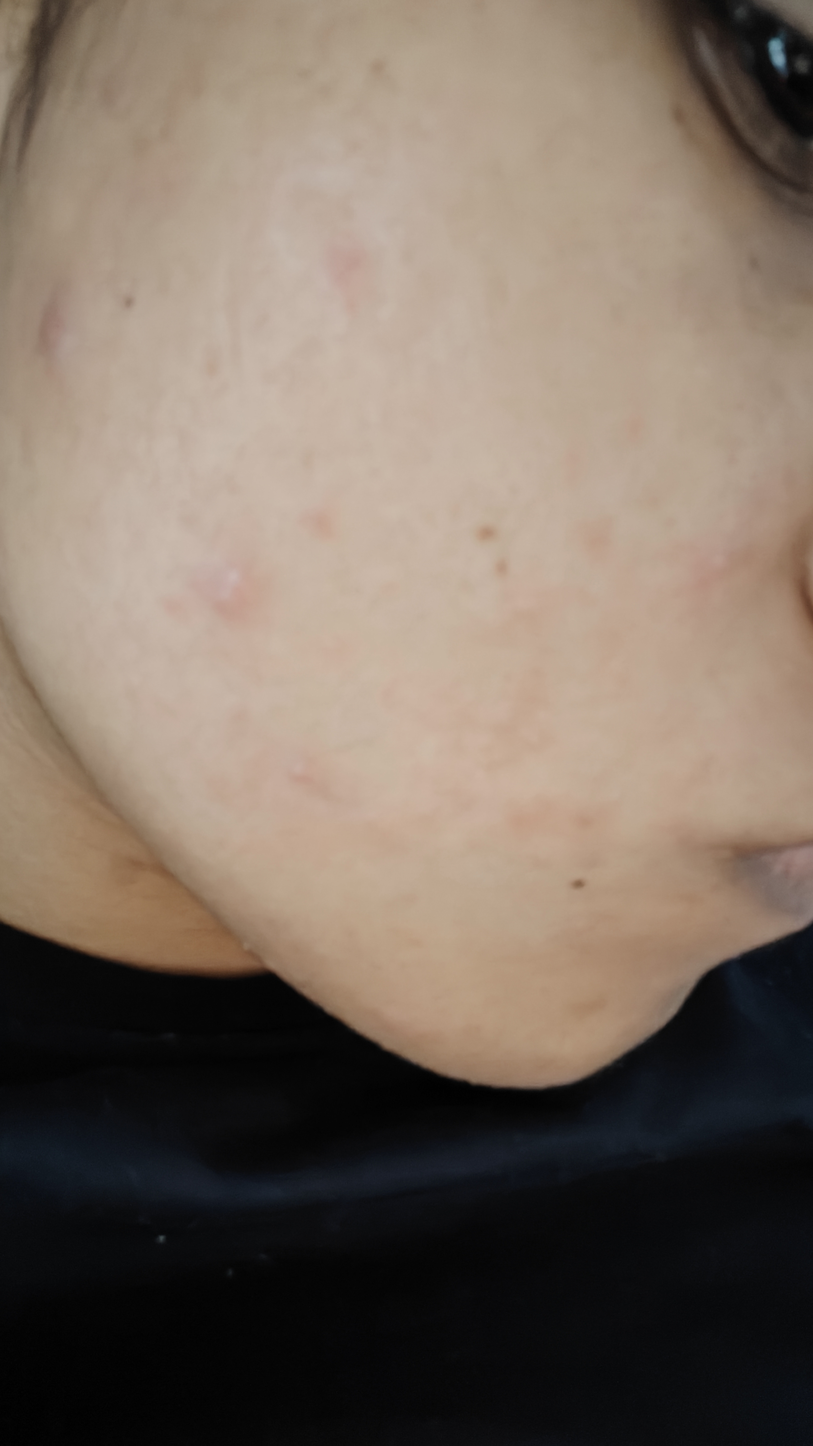closed_comedone: (703, 540, 757, 601)
papule: (159, 535, 286, 619), (33, 285, 122, 395)
